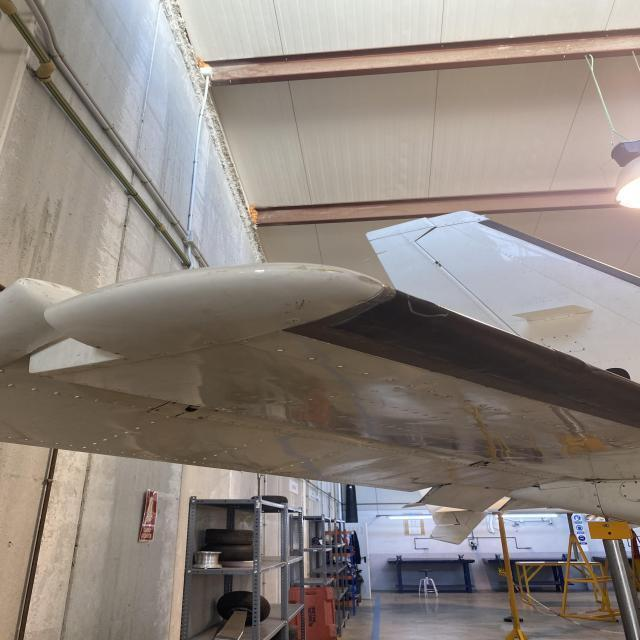Fastener Damage: (624, 495, 628, 498), (622, 485, 626, 487)
Rupture: (352, 286, 387, 304)
